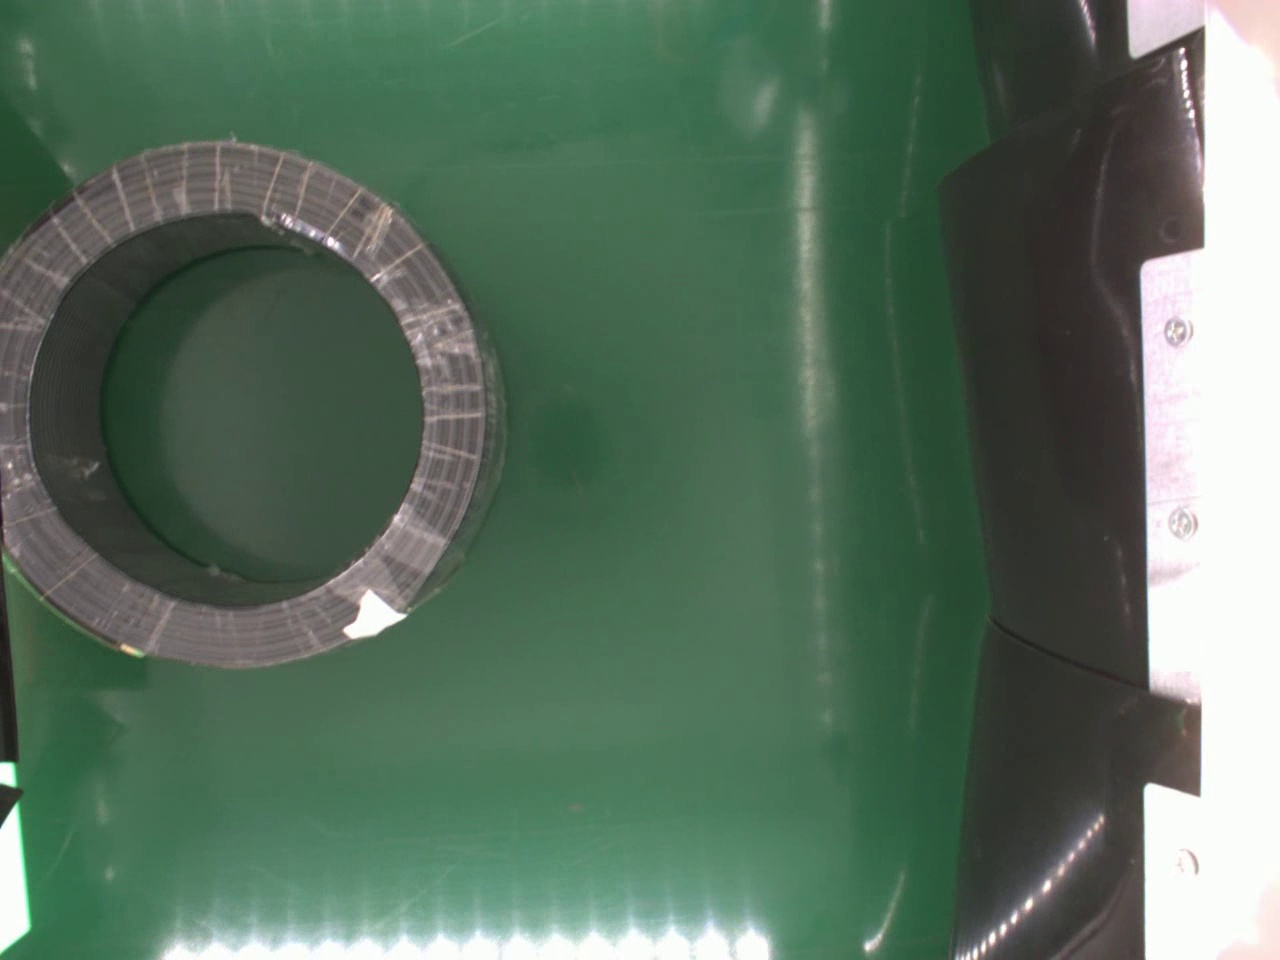black: (0, 135, 510, 677)
